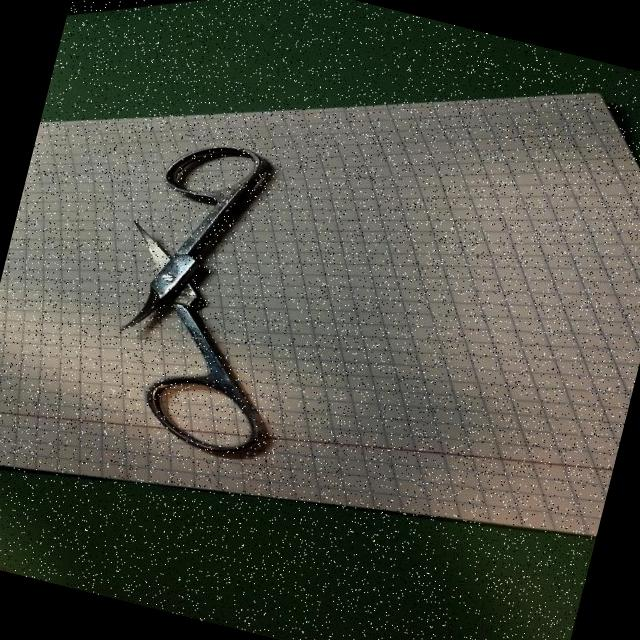scissors: (72, 118, 340, 467)
